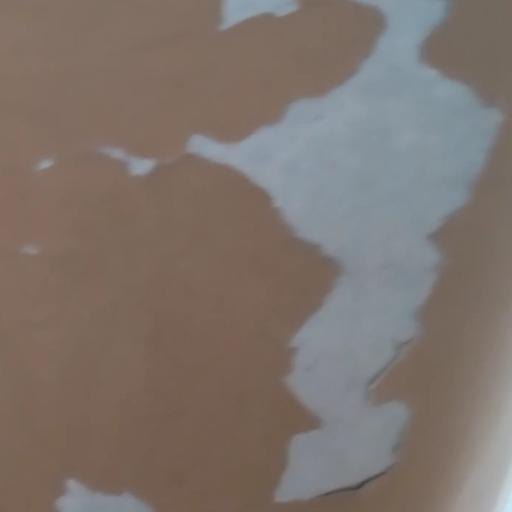peeling: (179, 0, 512, 512), (52, 466, 177, 512), (92, 127, 164, 204), (21, 138, 71, 197), (21, 226, 46, 269)
